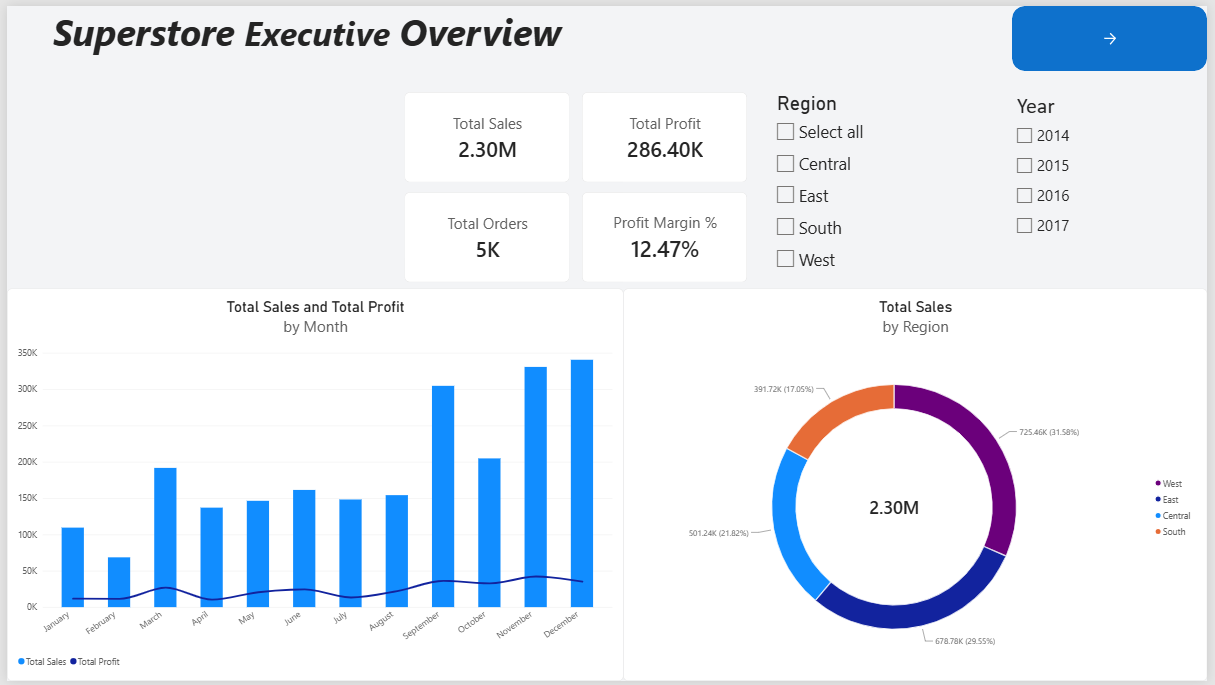

Layout of this report page (visuals, bound fields, positions):
{"tool":"powerbi","page":{"name":"Executive Overview","canvas":[1920,1080],"ordinal":0},"visuals":[{"type":"textbox","box":[0,0,960,104],"z":0},{"type":"slicer","fields":{"Values":["Fact_Sales.Region"]},"box":[1224,138,384,314],"z":1000},{"type":"cardVisual","fields":{"Data":["_Mesures.Total Sales"]},"box":[636,138,264,144],"z":2000},{"type":"cardVisual","fields":{"Data":["_Mesures.Total Profit"]},"box":[920,138,264,144],"z":3000},{"type":"cardVisual","fields":{"Data":["_Mesures.Total Orders"]},"box":[636,298,264,144],"z":4000},{"type":"cardVisual","fields":{"Data":["_Mesures.Profit Margin %"]},"box":[920,298,264,144],"z":5000},{"type":"lineStackedColumnComboChart","fields":{"Category":["Fact_Sales.Ship Date.Variation.Date Hierarchy.Month"],"Y":["_Mesures.Total Sales"],"Y2":["_Mesures.Total Profit"]},"box":[0,452,986,628],"z":6000},{"type":"donutChart","fields":{"Category":["Fact_Sales.Region"],"Y":["_Mesures.Total Sales"]},"box":[986,452,934,628],"z":7000},{"type":"slicer","fields":{"Values":["Dim_Date.Year"]},"box":[1608,138,312,314],"z":8000},{"type":"actionButton","box":[1608,0,312,104],"z":9000}]}

Visuals, with their boxes in screenshot pixels (x1, y1, x2, y2), scaled from the page's 1920x1080 canvas onto the 1215x685 screenshot:
textbox: bbox(0, 0, 608, 66)
slicer - Fact_Sales.Region: bbox(775, 88, 1018, 287)
cardVisual - _Mesures.Total Sales: bbox(402, 88, 570, 179)
cardVisual - _Mesures.Total Profit: bbox(582, 88, 749, 179)
cardVisual - _Mesures.Total Orders: bbox(402, 189, 570, 280)
cardVisual - _Mesures.Profit Margin %: bbox(582, 189, 749, 280)
lineStackedColumnComboChart - Fact_Sales.Ship Date.Variation.Date Hierarchy.Month x _Mesures.Total Sales: bbox(0, 287, 624, 684)
donutChart - Fact_Sales.Region x _Mesures.Total Sales: bbox(624, 287, 1214, 684)
slicer - Dim_Date.Year: bbox(1018, 88, 1214, 287)
actionButton: bbox(1018, 0, 1214, 66)
